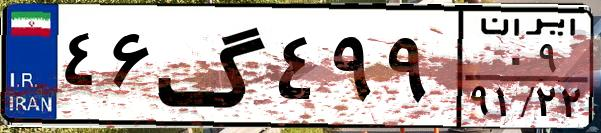0: (508, 27, 537, 80)
1: (495, 70, 520, 125)
2: (560, 70, 590, 125), (535, 70, 560, 125)
4: (270, 28, 330, 110), (57, 26, 110, 100)
6: (110, 28, 156, 98)
9: (385, 28, 445, 110), (330, 28, 385, 110), (537, 27, 568, 80), (470, 70, 495, 125)
گ: (156, 12, 270, 120)
